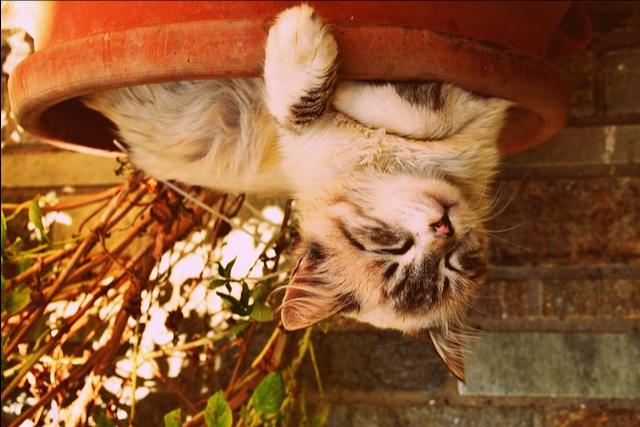Non_Gorille: (140, 37, 550, 363)
